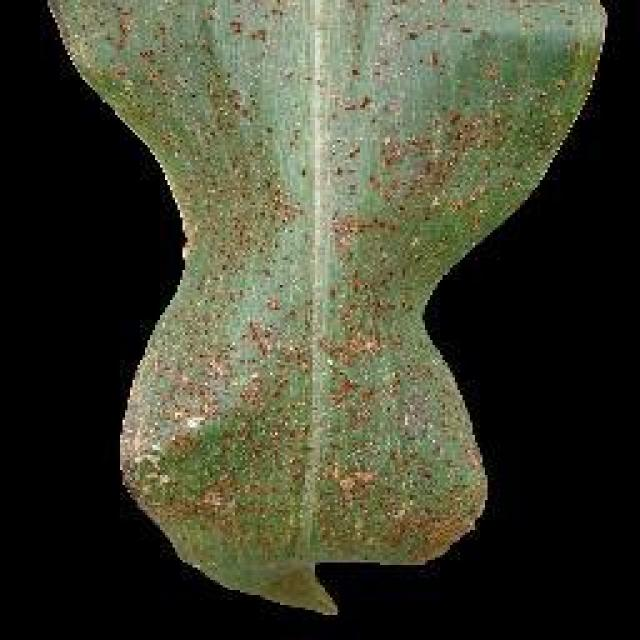Corn Common Rust: (168, 7, 498, 573)
